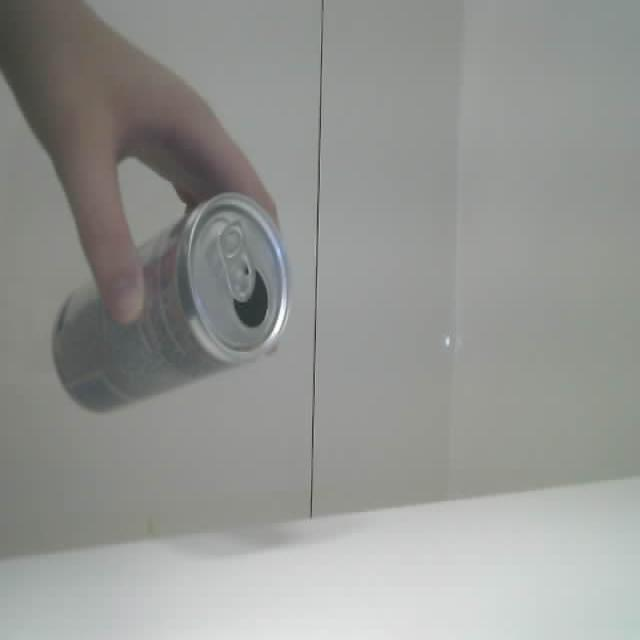redbull can: (53, 194, 289, 411)
